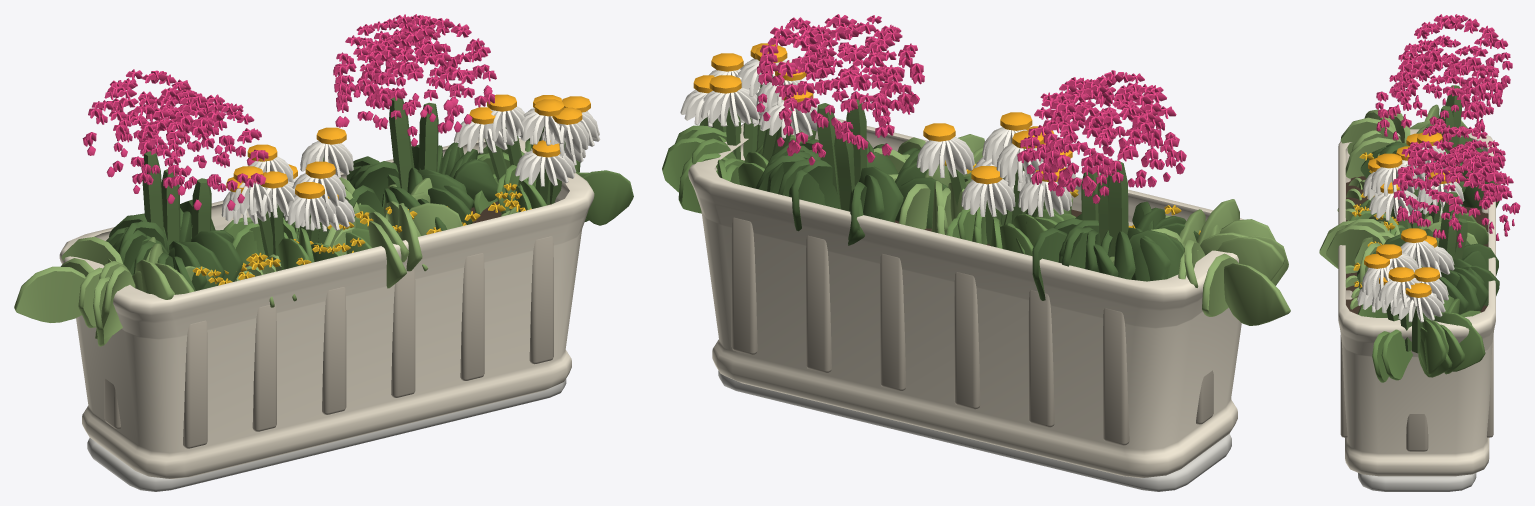
File: jard_massif_fleuri.glb
3 views of the same model, side by side, from view 1: azimuth 30°, elevation 25°; view 2: azimuth 150°, elevation 25°; view 3: azimuth 270°, elevation 25° (orthographic). The views are drawn at different scales.
Parts seen in each view (by area): view 1: VRC_Pot_Creme, VRC_Fl_Rose_Vif, VRC_Nervures, VRC_Feuille_Clair, VRC_Feuille_Fonce, VRC_Fl_Blanc, VRC_Tige, VRC_Feuille_Moyen, VRC_Embase, VRC_Fl_Coeur, VRC_Fl_Jaune; view 2: VRC_Pot_Creme, VRC_Fl_Rose_Vif, VRC_Nervures, VRC_Feuille_Fonce, VRC_Feuille_Clair, VRC_Fl_Blanc, VRC_Tige, VRC_Feuille_Moyen, VRC_Embase, VRC_Fl_Coeur; view 3: VRC_Pot_Creme, VRC_Fl_Rose_Vif, VRC_Fl_Blanc, VRC_Feuille_Clair, VRC_Feuille_Moyen, VRC_Feuille_Fonce, VRC_Fl_Coeur, VRC_Tige, VRC_Nervures, VRC_Embase, VRC_Terre, VRC_Fl_Jaune.
Boxes of the visible parts, left/top/right/bottom form: VRC_Pot_Creme: left=59, top=138, right=594, bottom=478; VRC_Fl_Rose_Vif: left=82, top=14, right=496, bottom=210; VRC_Nervures: left=104, top=236, right=553, bottom=448; VRC_Feuille_Clair: left=14, top=177, right=519, bottom=346; VRC_Feuille_Fonce: left=106, top=142, right=497, bottom=291; VRC_Fl_Blanc: left=221, top=106, right=600, bottom=231; VRC_Tige: left=142, top=97, right=565, bottom=256; VRC_Feuille_Moyen: left=223, top=138, right=633, bottom=269; VRC_Embase: left=87, top=379, right=566, bottom=491; VRC_Fl_Coeur: left=226, top=94, right=590, bottom=199; VRC_Fl_Jaune: left=192, top=183, right=531, bottom=285; VRC_Pot_Creme: left=688, top=118, right=1243, bottom=478; VRC_Fl_Rose_Vif: left=756, top=14, right=1186, bottom=203; VRC_Nervures: left=731, top=217, right=1213, bottom=445; VRC_Feuille_Fonce: left=755, top=139, right=1198, bottom=300; VRC_Feuille_Clair: left=873, top=134, right=1290, bottom=325; VRC_Fl_Blanc: left=680, top=58, right=1076, bottom=216; VRC_Tige: left=713, top=84, right=1128, bottom=256; VRC_Feuille_Moyen: left=662, top=117, right=1076, bottom=256; VRC_Embase: left=718, top=370, right=1231, bottom=491; VRC_Fl_Coeur: left=693, top=43, right=1072, bottom=184; VRC_Pot_Creme: left=1338, top=129, right=1495, bottom=476; VRC_Fl_Rose_Vif: left=1375, top=14, right=1520, bottom=247; VRC_Fl_Blanc: left=1357, top=145, right=1464, bottom=322; VRC_Feuille_Clair: left=1319, top=104, right=1477, bottom=309; VRC_Feuille_Moyen: left=1349, top=197, right=1488, bottom=382; VRC_Feuille_Fonce: left=1357, top=136, right=1499, bottom=314; VRC_Fl_Coeur: left=1364, top=132, right=1456, bottom=297; VRC_Tige: left=1386, top=85, right=1467, bottom=353; VRC_Nervures: left=1340, top=176, right=1493, bottom=451; VRC_Embase: left=1358, top=473, right=1476, bottom=491; VRC_Terre: left=1346, top=176, right=1488, bottom=314; VRC_Fl_Jaune: left=1352, top=152, right=1398, bottom=287.
Bounding box in the file's own units: 1.49 × 0.8978 × 0.5102.
